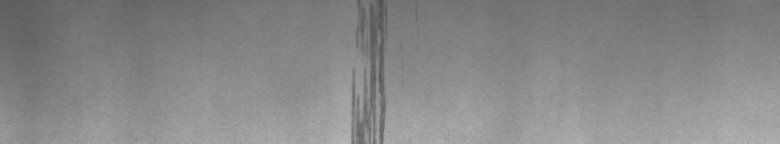hd: (347, 4, 392, 136)
